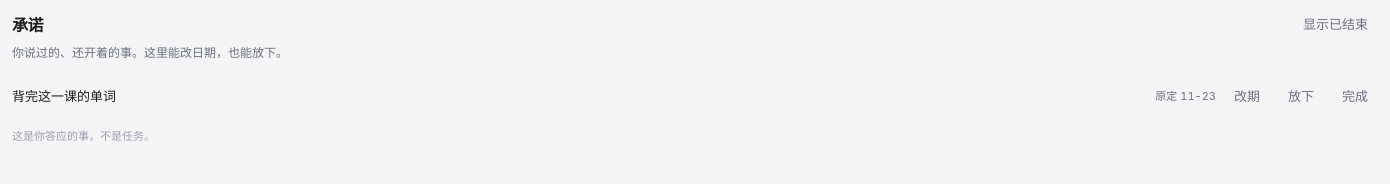
Test case: a failed resolve shows the service message inline and keeps the row
Click the button with aria-label "完成：背完这一课的单词" at [1355, 96], box [1332, 82, 1378, 110]
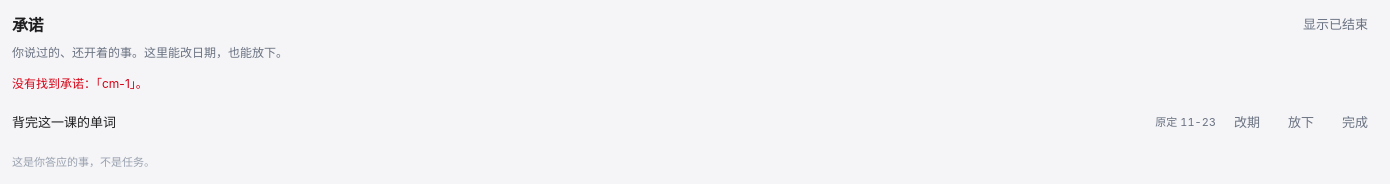
Expected: the text "背完这一课的单词" is shown, [12, 114, 116, 130]
Result: the message reads "没有找到承诺：「cm-1」。" at [12, 76, 148, 90]
